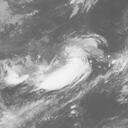cyclone: (37, 37, 96, 92)
